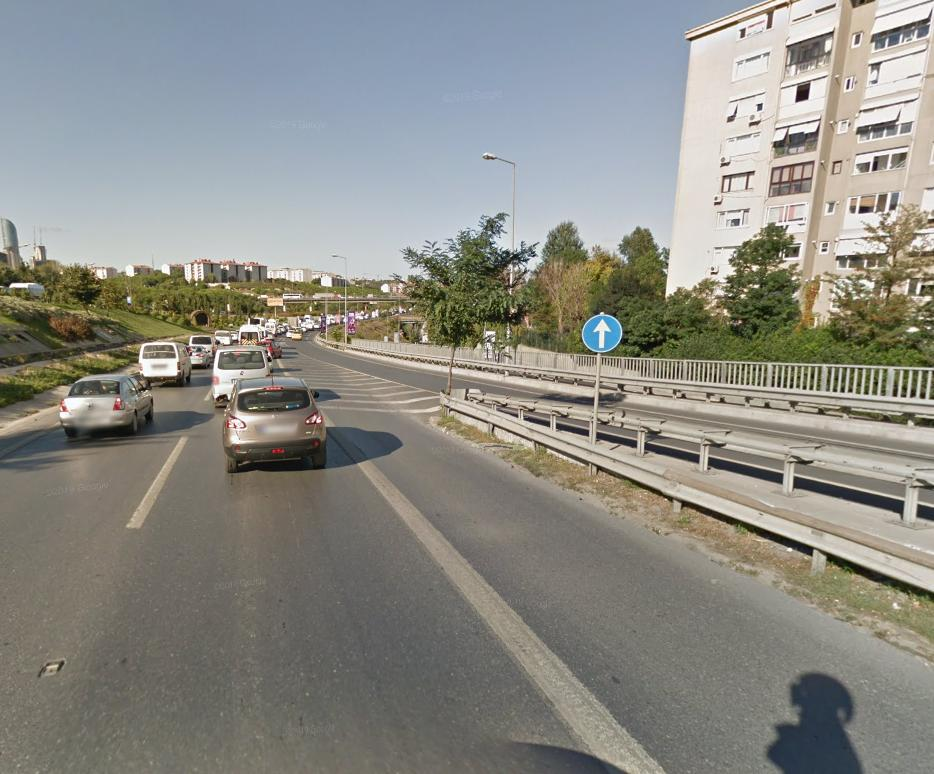forward: (581, 313, 625, 353)
